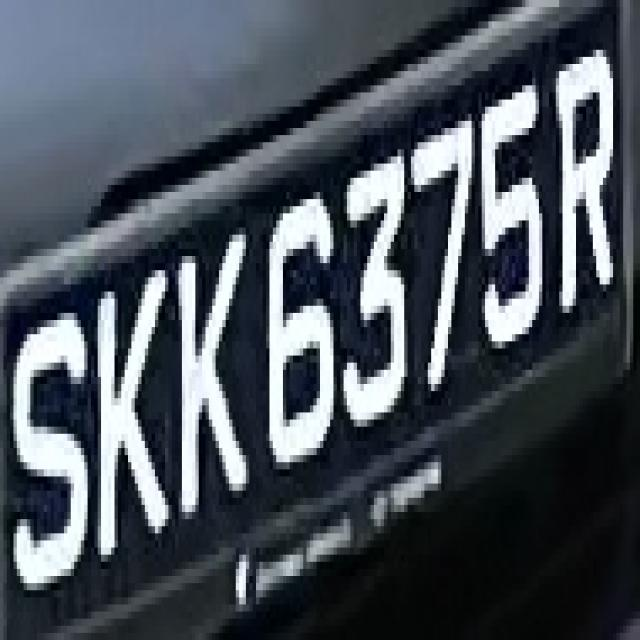3: (337, 149, 418, 455)
5: (468, 71, 549, 384)
6: (256, 192, 344, 505)
7: (404, 106, 482, 412)
K: (91, 249, 178, 576), (168, 234, 256, 540)
R: (546, 21, 616, 327)
S: (10, 284, 94, 612)
